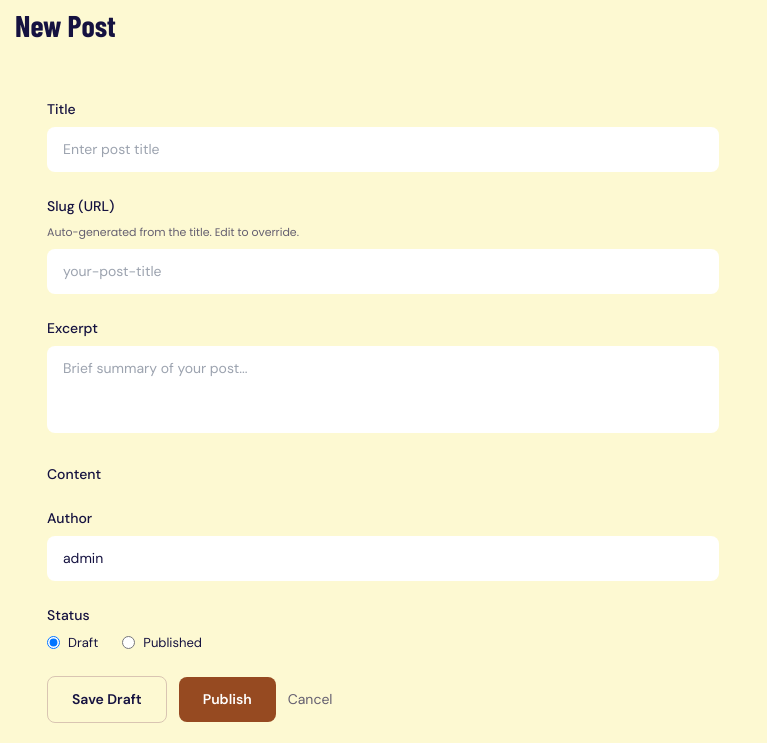
Test: PostForm › blocks saving when the slug is already taken
In the field labelled "Title": (383, 150) [47,127,719,172], type "Hello World"
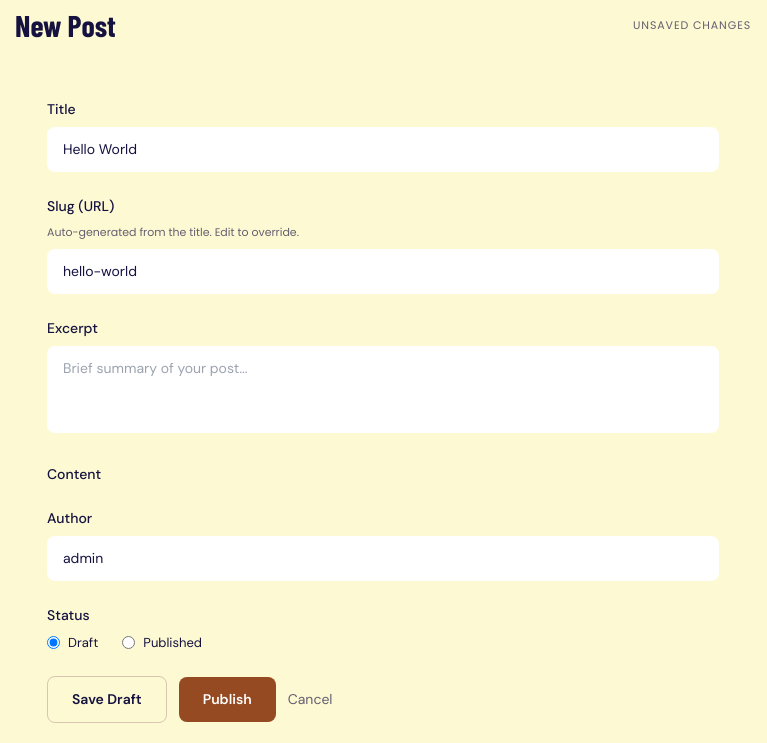
In the text box labelled "Excerpt": (383, 389) [47,346,719,432], type "Summary"
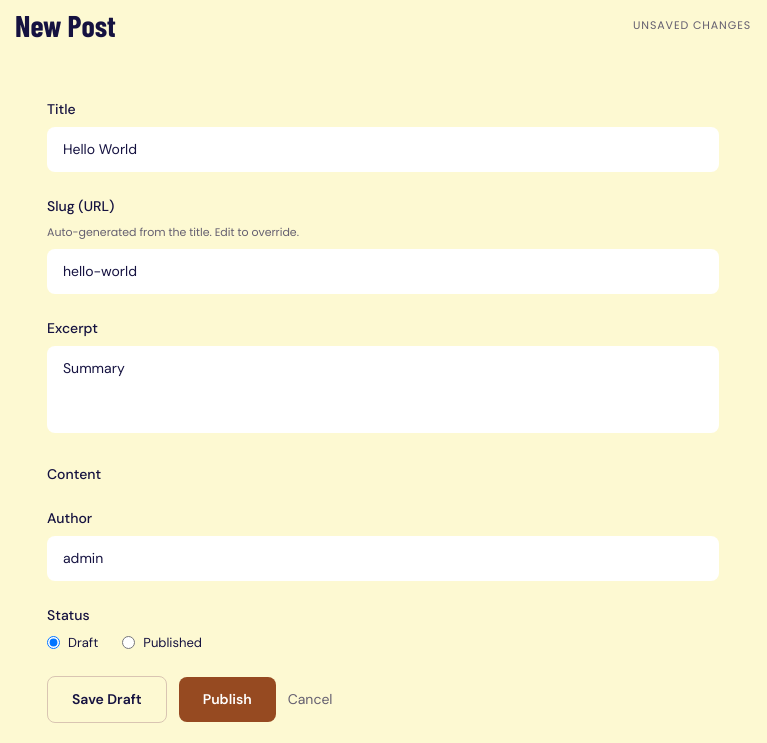
Click the button "Save Draft": (107, 700) [47,676,167,723]
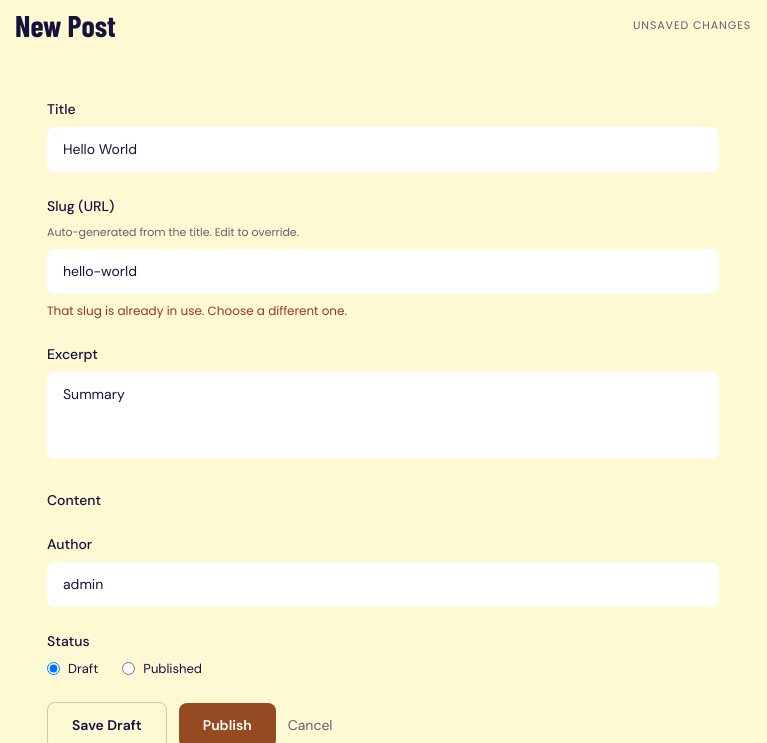
Result: the text "That slug is already in use. Choose a different one." is shown at [47,302,347,318]
